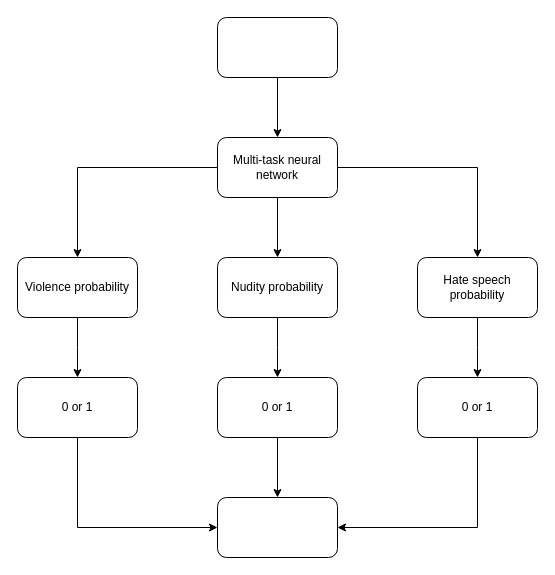
This 555x575 diagram has some shape labels left out. The centre of each missing label's shape, as x and y in pixels:
"Add up" goes at (277,527).
"Fused features" goes at (277,47).
